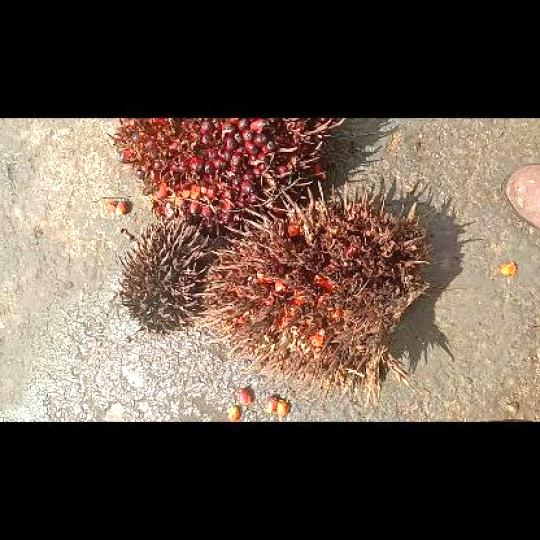masak: (106, 118, 346, 230)
terlalu masak: (193, 180, 432, 406)
